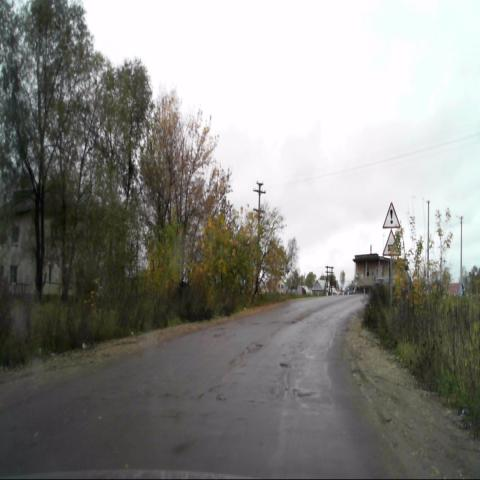1_1: (382, 229, 401, 256)
1_33: (382, 201, 401, 229)
